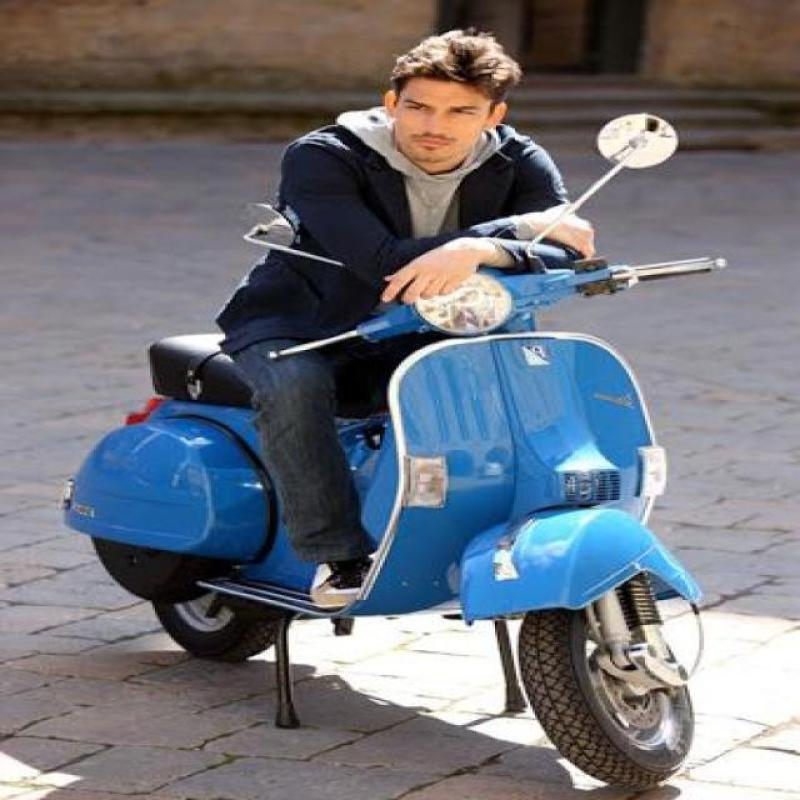nohelmet: (384, 19, 516, 170)
